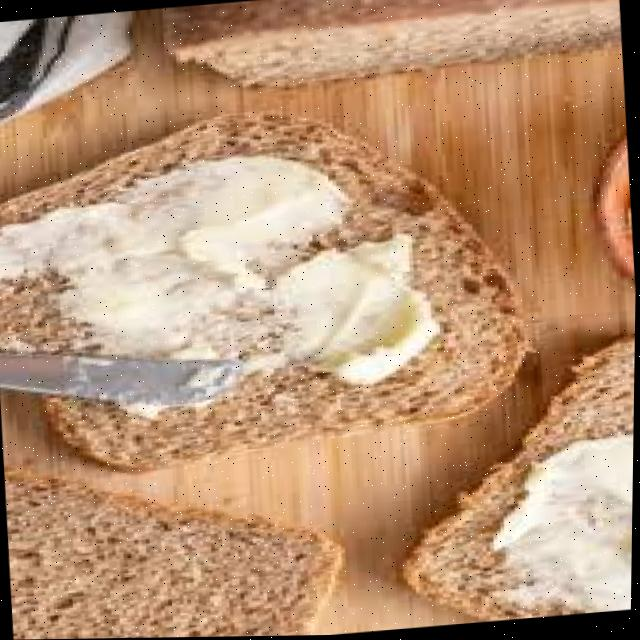Bread: (12, 478, 342, 640)
